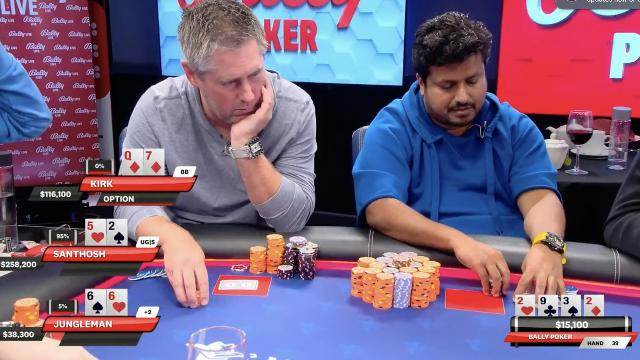2D: (585, 296, 603, 316)
2H: (516, 296, 534, 316)
2S: (107, 220, 127, 246)
3S: (562, 296, 580, 316)
5H: (86, 220, 106, 246)
6H: (108, 290, 126, 316)
6S: (86, 288, 105, 316)
7D: (144, 149, 164, 175)
9C: (539, 296, 557, 316)
QD: (124, 149, 142, 175)
